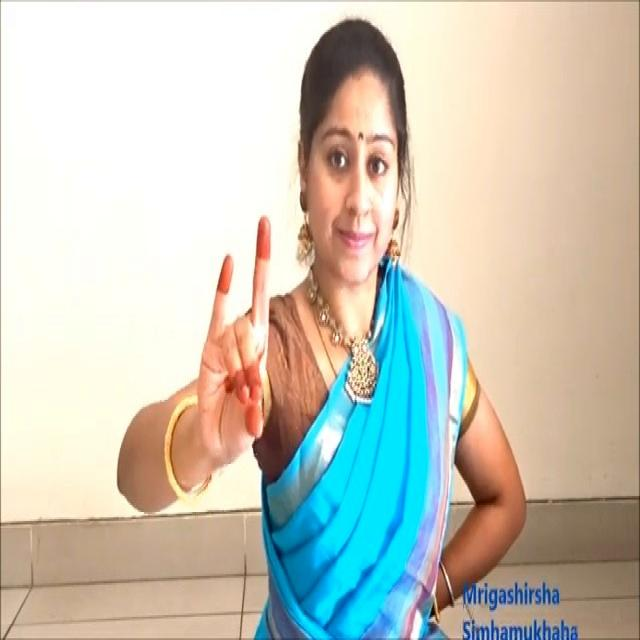Simhamukha: (192, 216, 285, 459)
lady: (284, 22, 424, 282)
text: (460, 565, 584, 640)
